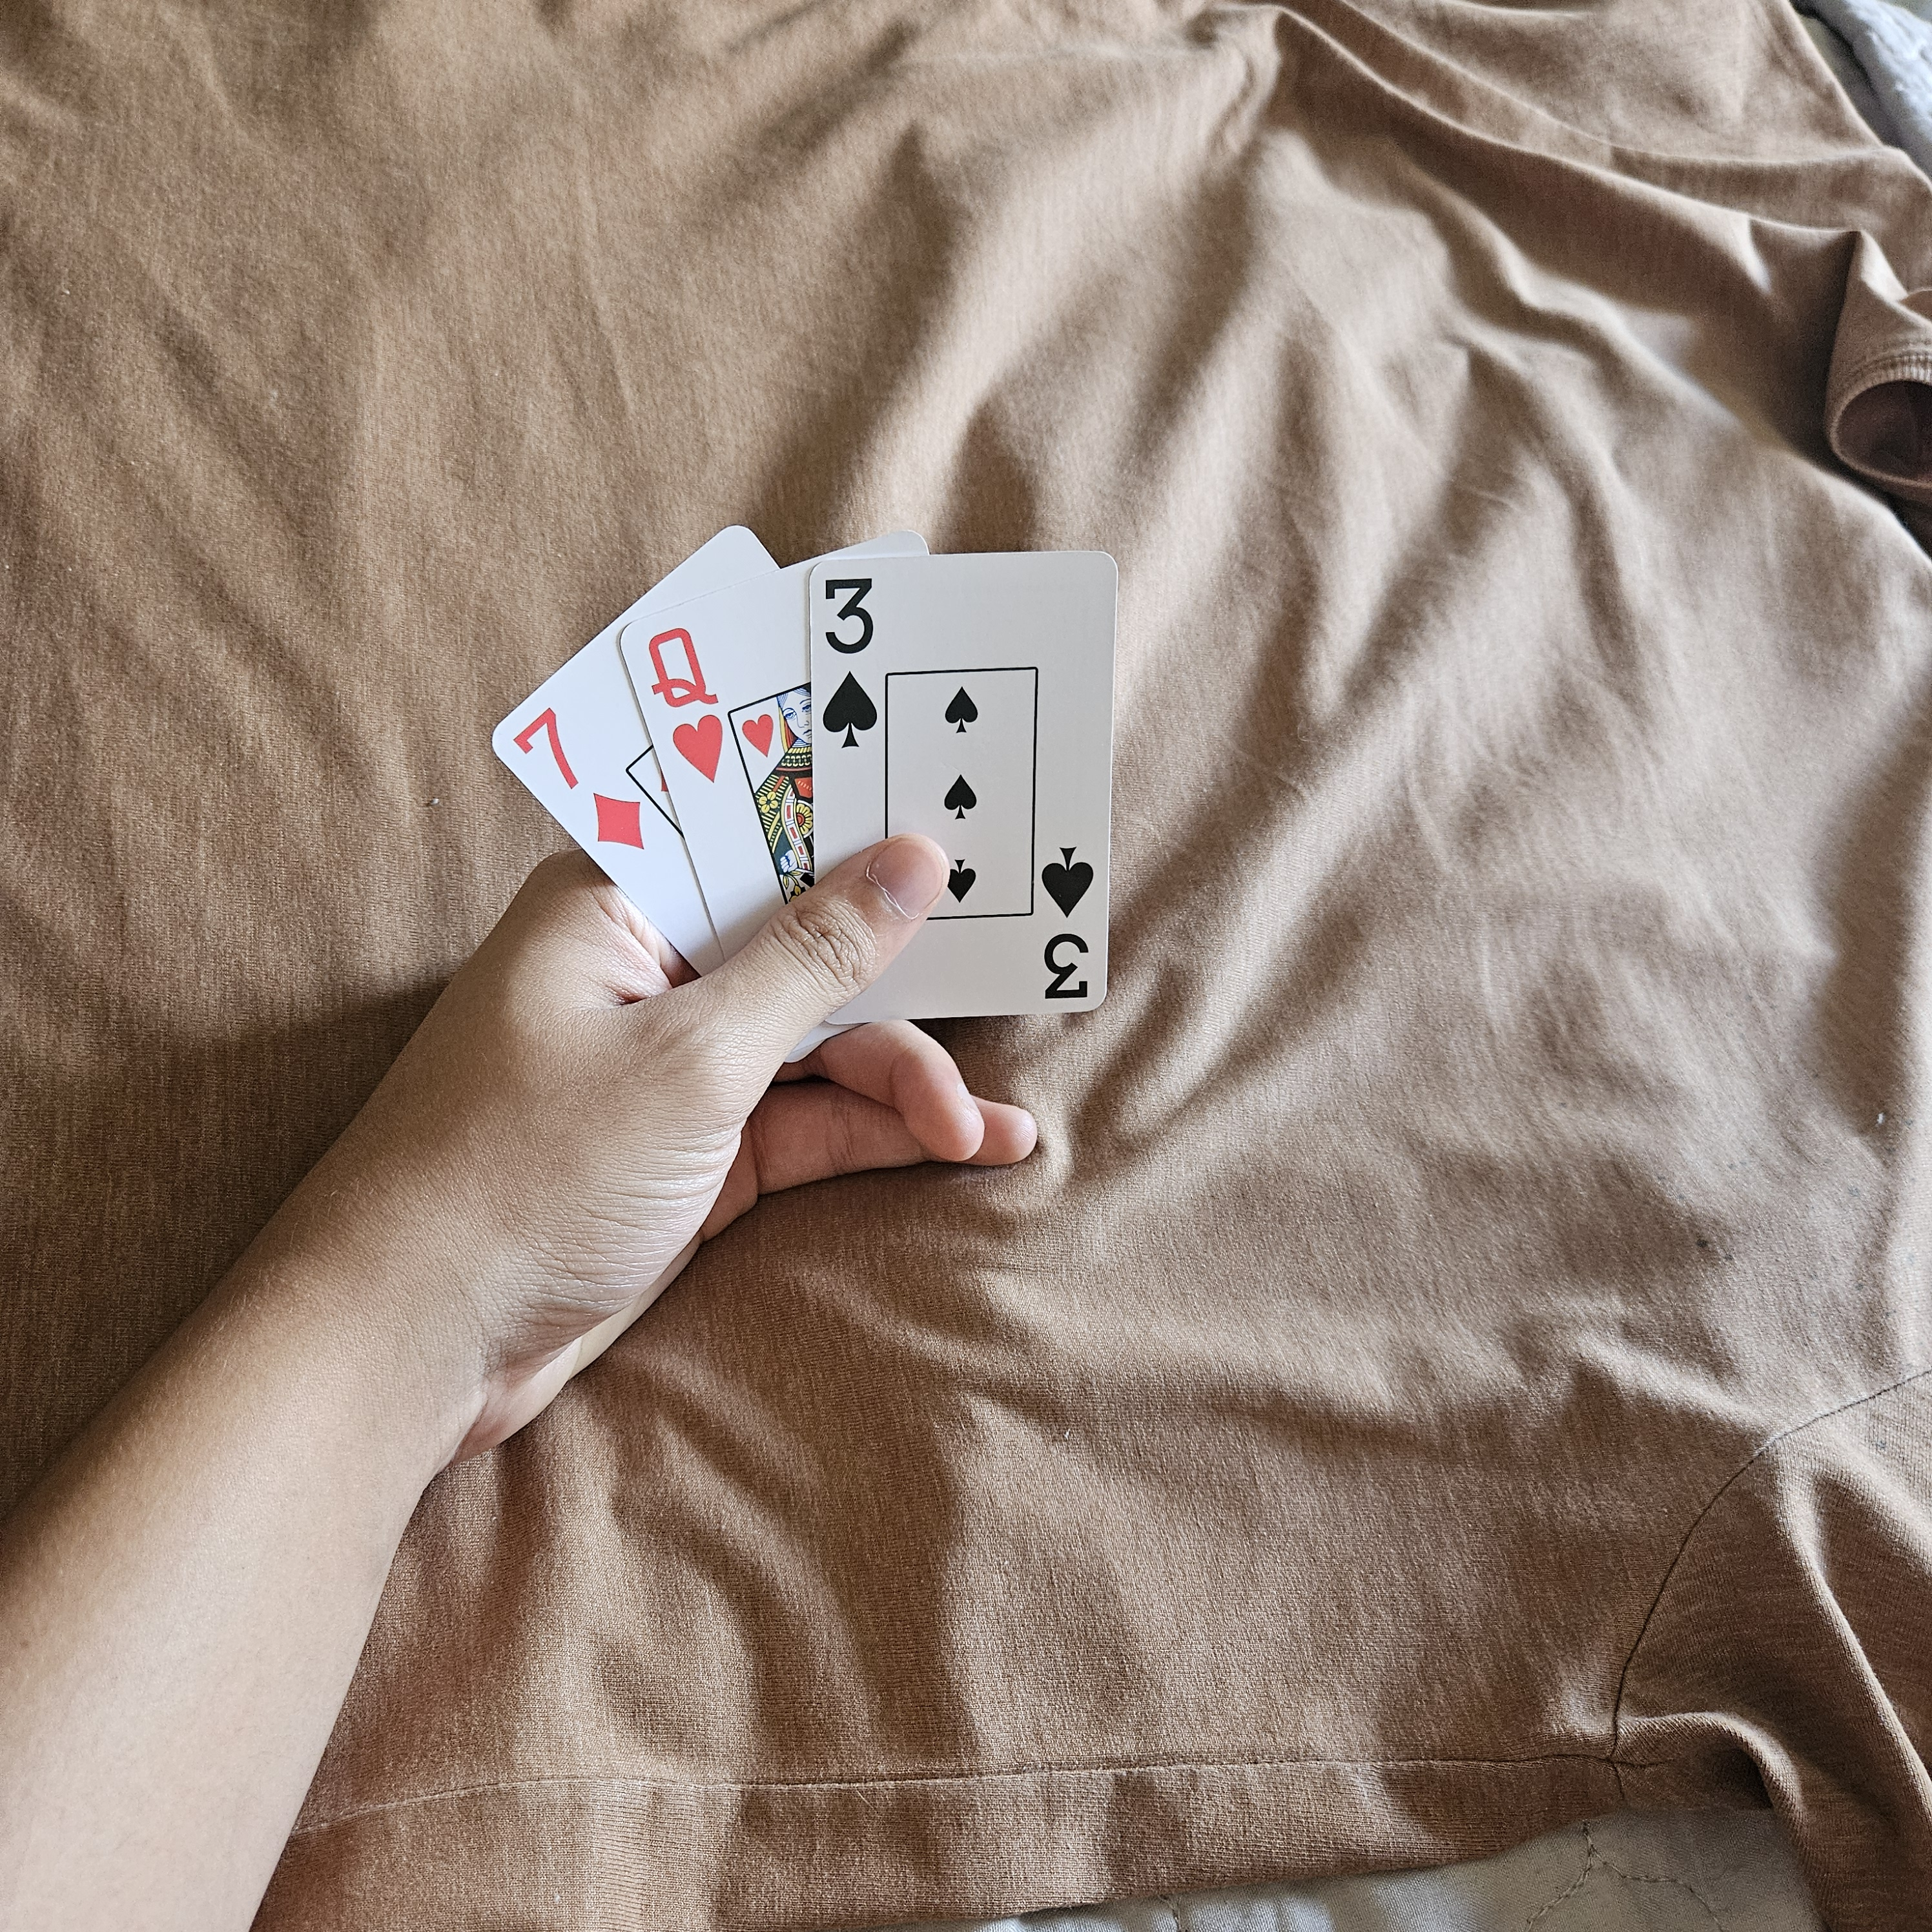3E: (805, 559, 892, 764), (1024, 830, 1106, 1016)
7O: (506, 688, 649, 863)
QC: (632, 619, 736, 787)
